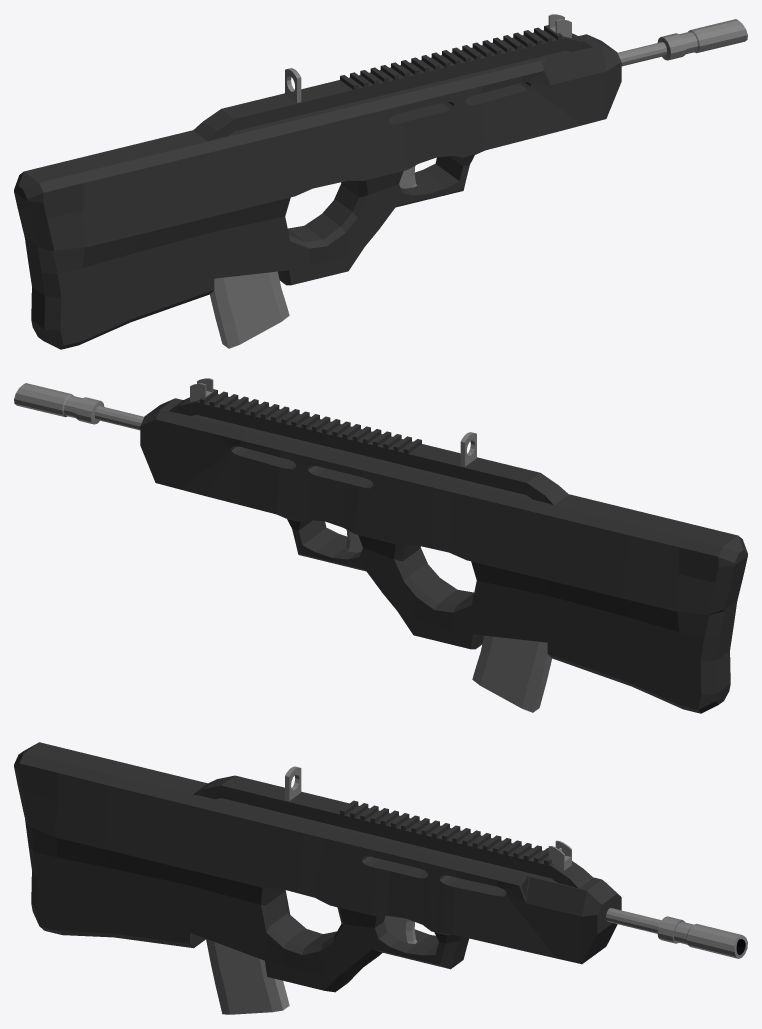
3 renders of one model, top to bottom at view 1: azimuth 30°, elevation 25°; view 2: azimuth 150°, elevation 25°; view 3: azimuth 330°, elevation 25°, orthographic.
Parts seen in each view (by area): view 1: Weapon, Cube.002, Mag, Cylinder, Cube.003; view 2: Weapon, Cube.002, Mag, Cylinder, Cube.003; view 3: Weapon, Cube.002, Mag, Cylinder, Cube.003, Cube.006.
Part boxes in pixels (bbox=[...]): Weapon: bbox=[14, 34, 621, 349]; Cube.002: bbox=[193, 25, 593, 141]; Mag: bbox=[210, 271, 289, 348]; Cylinder: bbox=[617, 19, 747, 66]; Cube.003: bbox=[285, 14, 571, 102]; Weapon: bbox=[140, 398, 747, 713]; Cube.002: bbox=[168, 389, 568, 505]; Mag: bbox=[472, 635, 551, 712]; Cylinder: bbox=[14, 383, 144, 430]; Cube.003: bbox=[190, 378, 476, 466]; Weapon: bbox=[14, 742, 621, 992]; Cube.002: bbox=[193, 775, 593, 888]; Mag: bbox=[206, 939, 289, 1014]; Cylinder: bbox=[606, 908, 747, 958]; Cube.003: bbox=[285, 766, 571, 870]; Cube.006: bbox=[384, 915, 416, 943].
Size of the model in its own units: 894 by 308 by 72.7.
